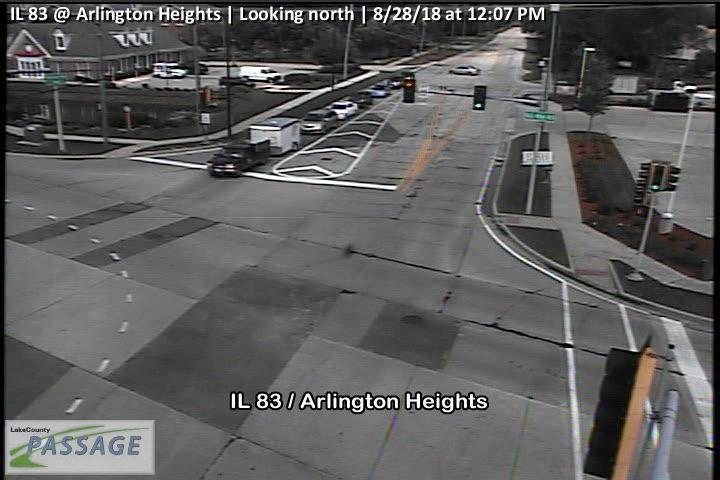SUV: (299, 109, 338, 135), (238, 65, 283, 84)
Sedan: (325, 99, 358, 120), (343, 91, 372, 109), (365, 82, 392, 98), (449, 64, 481, 75)
Truck: (207, 115, 300, 178), (151, 62, 187, 78)
